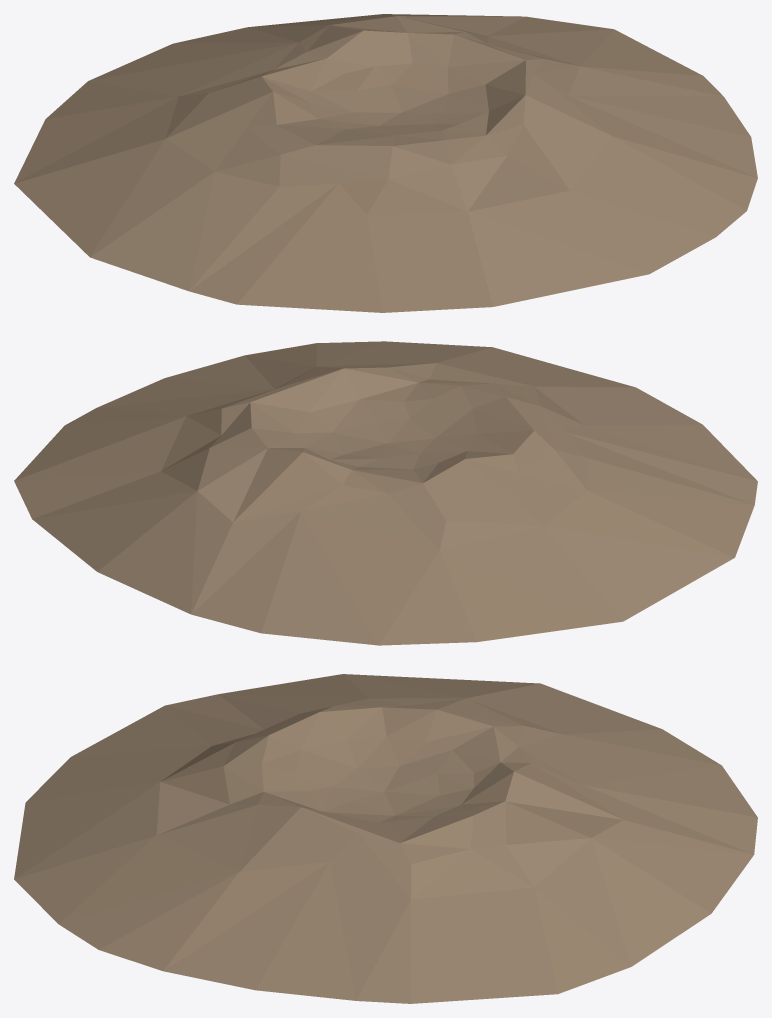
The model's file is SM_Env_Crater_01.fbx.
3 views of the same model, one above another, from view 1: azimuth 30°, elevation 25°; view 2: azimuth 150°, elevation 25°; view 3: azimuth 270°, elevation 25° (orthographic). The views are drawn at different scales.
Parts seen in each view (by area): view 1: SM_Env_Crater_01; view 2: SM_Env_Crater_01; view 3: SM_Env_Crater_01.
Part boxes in pixels (left/top/right/bottom): SM_Env_Crater_01: left=14, top=14, right=757, bottom=312; SM_Env_Crater_01: left=14, top=341, right=757, bottom=645; SM_Env_Crater_01: left=14, top=674, right=757, bottom=1003.
Bounding box in the file's own units: 501 × 59.46 × 478.
